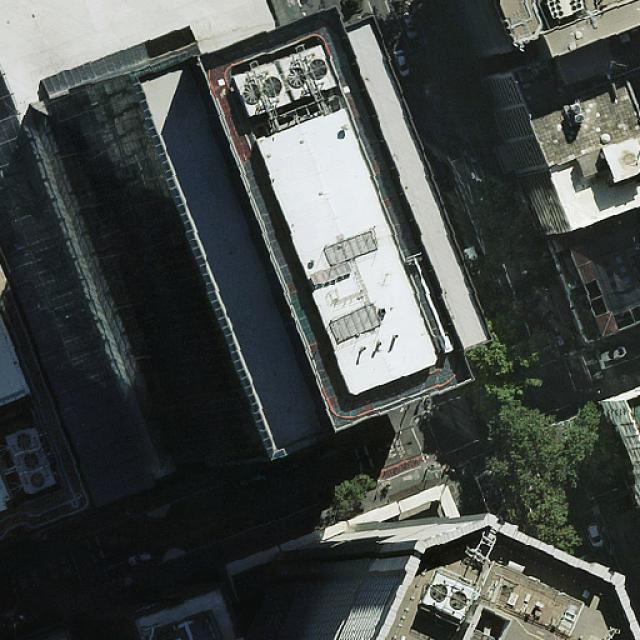Bike-Symbols: (403, 470, 423, 481), (593, 371, 605, 380), (586, 357, 598, 365)
